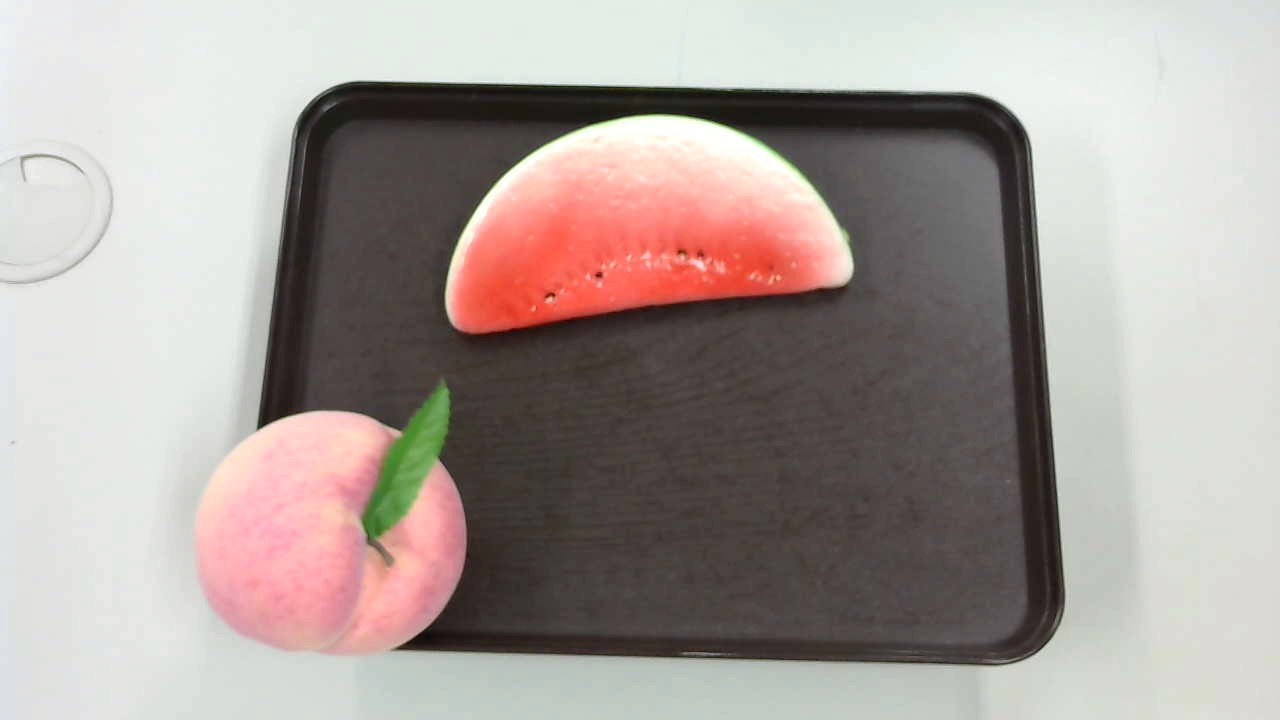peach: (198, 381, 468, 663)
water melon: (445, 111, 863, 337)
